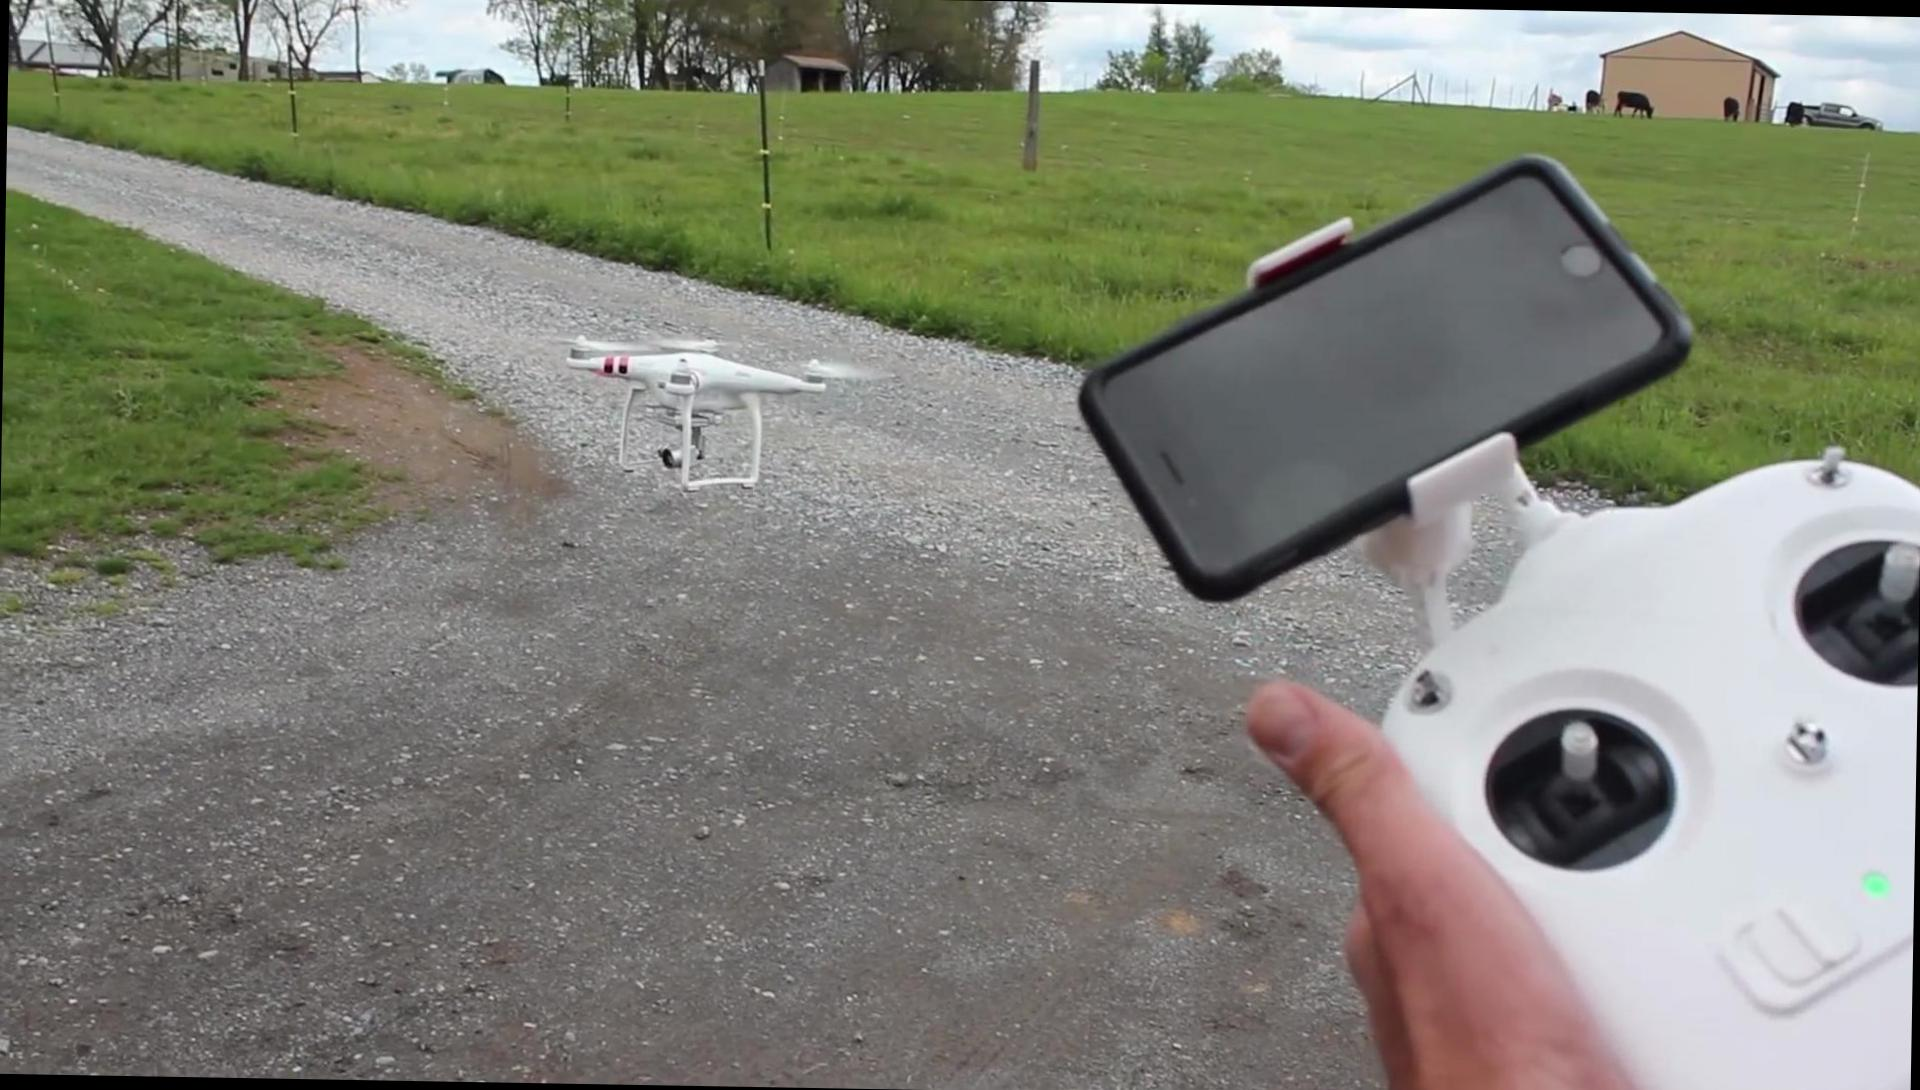drone: (556, 326, 841, 492)
